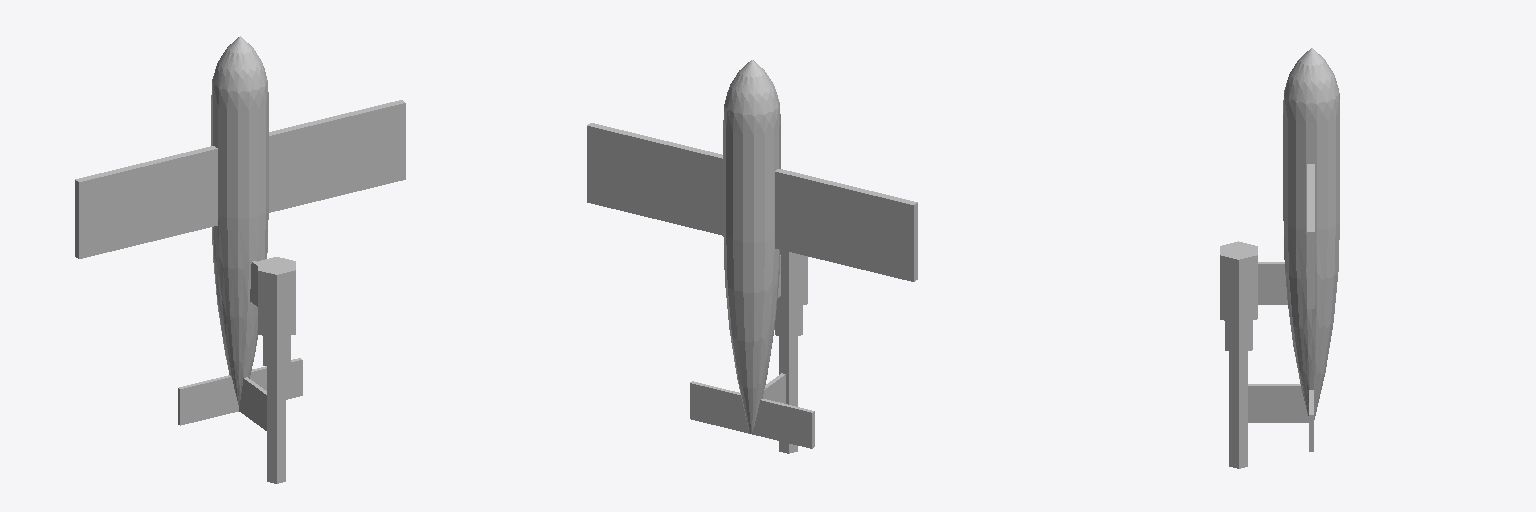
Rendered from v1-main.obj.
3 views of the same model, side by side, from view 1: azimuth 30°, elevation 25°; view 2: azimuth 150°, elevation 25°; view 3: azimuth 270°, elevation 25° (orthographic).
Parts seen in each view (by area): view 1: main; view 2: main; view 3: main.
Boxes of the visible parts, x1=… form: main: x1=75, y1=36, x2=405, y2=483; main: x1=587, y1=60, x2=917, y2=453; main: x1=1220, y1=48, x2=1339, y2=468.
Bounding box in the file's own units: 6.71 × 8.18 × 2.14.